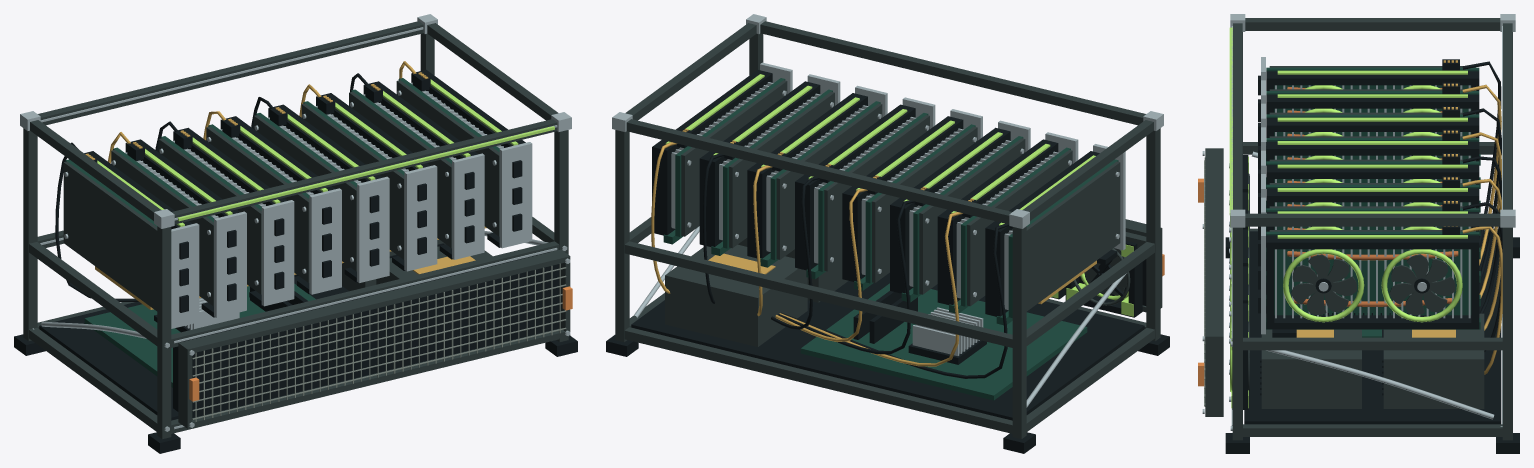
File: rig-8-carbon-none.glb
The picture shows the model from 3 angles, left to right: view 1: azimuth 30°, elevation 25°; view 2: azimuth 150°, elevation 25°; view 3: azimuth 270°, elevation 25°; orthographic projection.
Visible parts, largest first — view 1: Anodized graphite (×2), Brushed aluminium (×9), gpu-dual (×8), Rubber and ABS (×9), filter-carbon, Filter fibres, Circuit board, rig-8-carbon-none, slot-cable-1; view 2: Anodized graphite (×2), Rubber and ABS (×10), gpu-dual (×8), Brushed aluminium (×9), Circuit board, slot-cable-1, slot-cable-2, slot-cable-3, slot-cable-4, slot-cable-5, Lime accents, Contacts (+2 smaller); view 3: Anodized graphite (×4), Rubber and ABS (×10), gpu-dual (×8), Lime accents (×8), Brushed aluminium (×2), Copper heat pipes, Contacts, rig-8-carbon-none, Circuit board, slot-cable-8, slot-cable-1, slot-cable-2 (+6 smaller).
Part boxes in pixels (box(x1,y1,x2,y2)): Anodized graphite (×2): box(23, 21, 570, 438); Brushed aluminium (×9): box(20, 14, 571, 431); gpu-dual (×8): box(63, 78, 499, 311); Rubber and ABS (×9): box(14, 69, 577, 453); filter-carbon: box(192, 264, 560, 417); Filter fibres: box(192, 263, 566, 421); Circuit board: box(84, 283, 315, 387); rig-8-carbon-none: box(177, 126, 554, 221); slot-cable-1: box(55, 142, 298, 301); Anodized graphite (×2): box(615, 21, 1162, 438); Rubber and ABS (×10): box(606, 69, 1169, 453); gpu-dual (×8): box(675, 78, 1120, 317); Brushed aluminium (×9): box(612, 14, 1163, 407); Circuit board: box(663, 230, 1087, 400); slot-cable-1: box(781, 223, 1009, 378); slot-cable-2: box(779, 212, 962, 366); slot-cable-3: box(778, 200, 915, 354); slot-cable-4: box(775, 188, 867, 342); slot-cable-5: box(771, 177, 820, 329); Lime accents: box(1066, 244, 1133, 316); Contacts: box(708, 253, 775, 274); Anodized graphite (×4): box(1205, 18, 1512, 440); Rubber and ABS (×10): box(1225, 59, 1519, 453); gpu-dual (×8): box(1266, 66, 1479, 315); Lime accents (×8): box(1277, 70, 1467, 322); Brushed aluminium (×2): box(1230, 14, 1515, 430); Copper heat pipes: box(1287, 251, 1458, 306); Contacts: box(1296, 329, 1455, 337); rig-8-carbon-none: box(1229, 27, 1232, 214); Circuit board: box(1266, 154, 1480, 337); slot-cable-8: box(1462, 226, 1502, 374); slot-cable-1: box(1462, 61, 1501, 247); slot-cable-2: box(1462, 84, 1501, 265).
Size of the model in its own units: 6.06 by 3.24 by 4.01.
